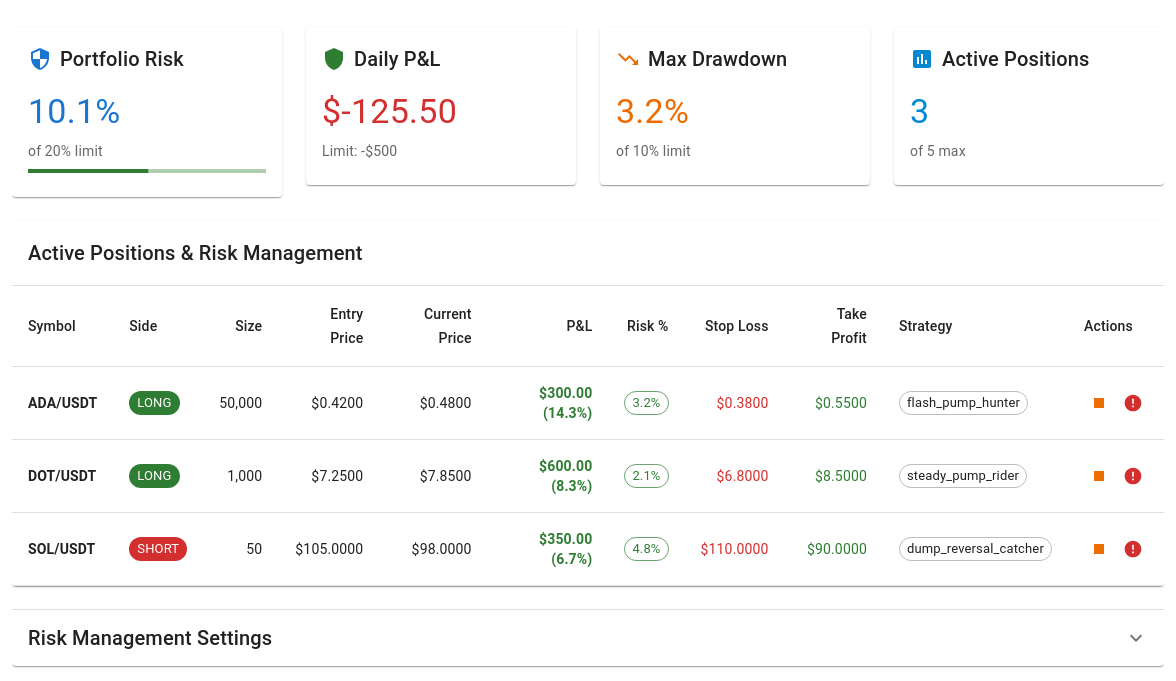
Test case: RiskManagementPage › expands risk settings accordion
Step 1. Click the button "Risk Management Settings" → (150, 638), box [28, 626, 1148, 650]
(page scrolled)
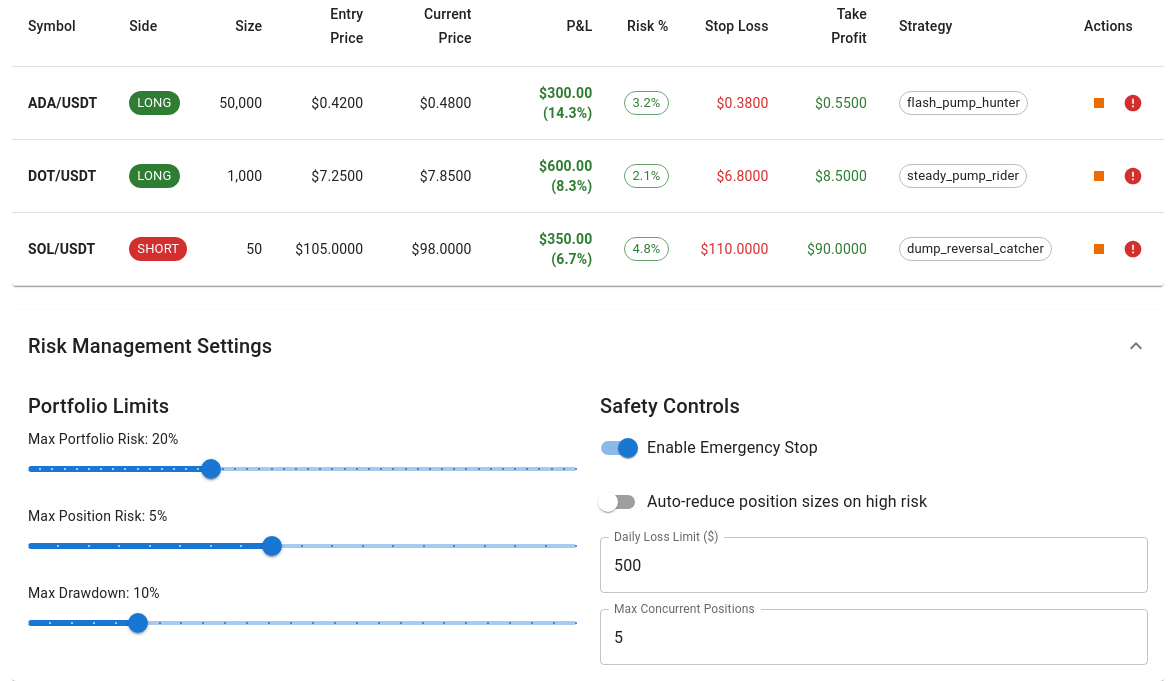
Result: the heading "Portfolio Limits" is shown at [28, 394, 169, 418]
Result: the heading "Safety Controls" is shown at [600, 394, 740, 418]
Result: the text "Max Portfolio Risk: 20%" is shown at [28, 431, 178, 447]
